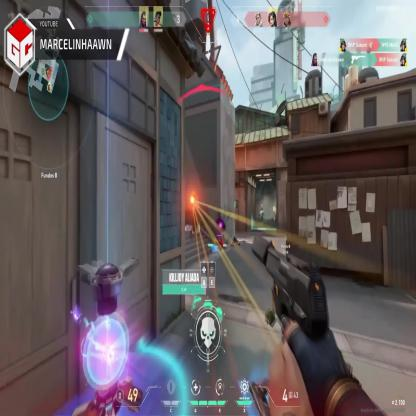enemy: (190, 193, 198, 238)
enemy_head: (192, 193, 196, 201)
